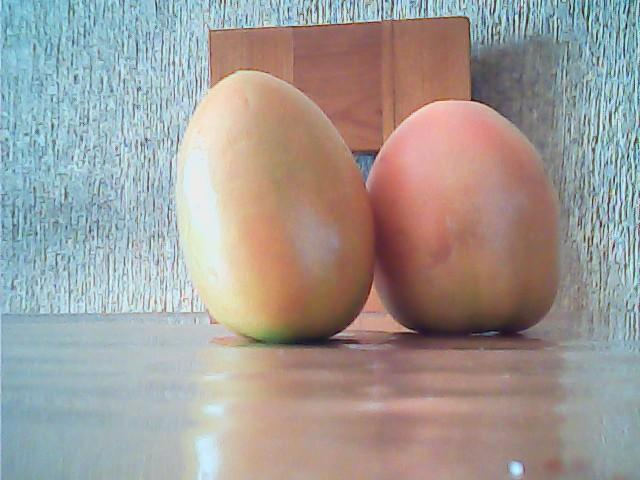verde: (176, 72, 375, 341), (367, 98, 564, 341)
